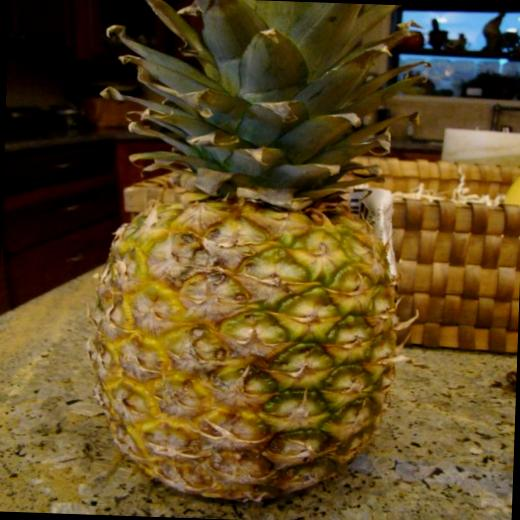Mango: (78, 0, 432, 510)
